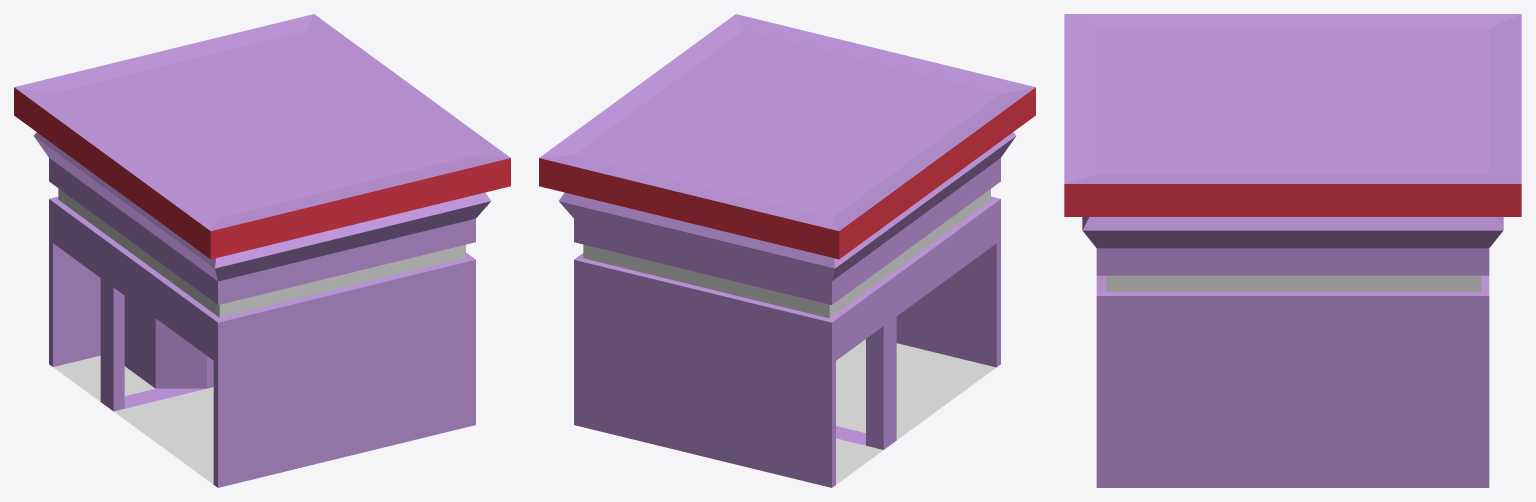
The model's file is FBX_SD_mShop4fbx.fbx.
3 renders of one model, left to right at view 1: azimuth 30°, elevation 25°; view 2: azimuth 150°, elevation 25°; view 3: azimuth 270°, elevation 25°, orthographic. The views are drawn at different scales.
Parts seen in each view (by area): view 1: FBX_SD_mShop4; view 2: FBX_SD_mShop4; view 3: FBX_SD_mShop4.
Boxes of the visible parts, <box> form: FBX_SD_mShop4: <box>14,14,510,487</box>; FBX_SD_mShop4: <box>539,14,1035,487</box>; FBX_SD_mShop4: <box>1064,14,1521,487</box>.
Size of the model in its own units: 969 by 839 by 1101.
